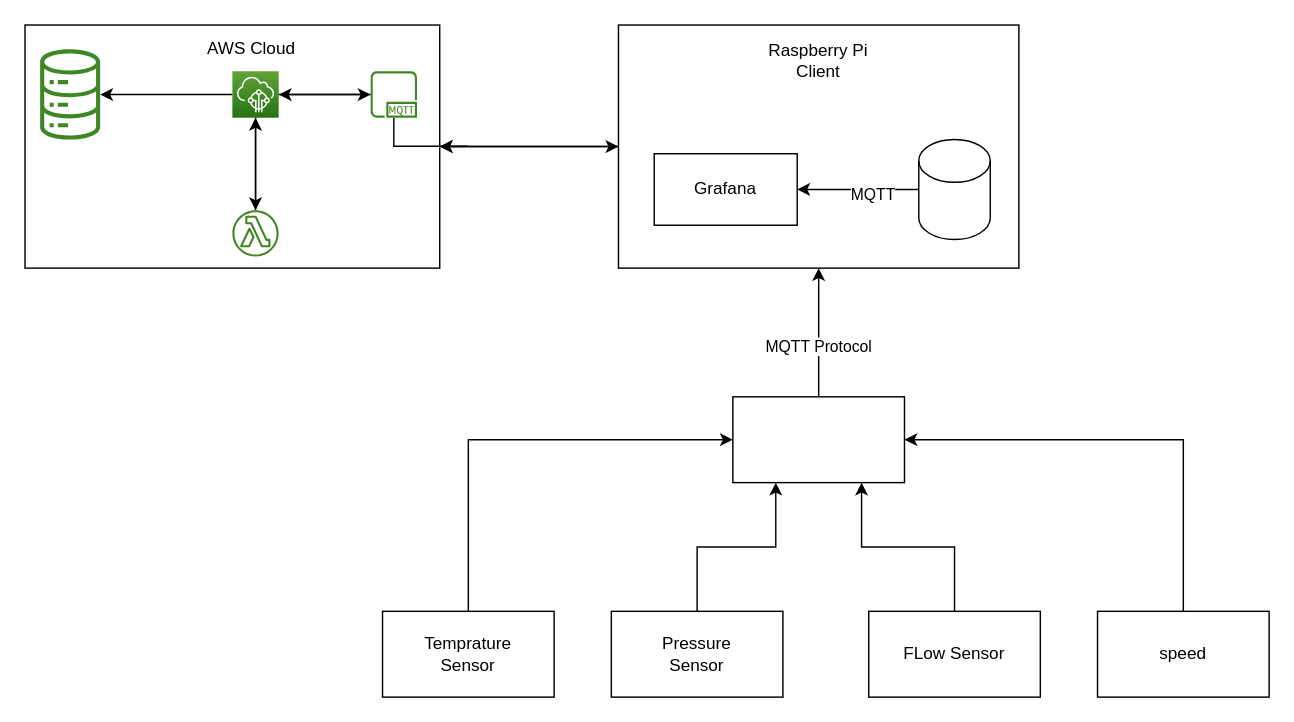
Image size: 1294x722. Some labels were removed from this diagram. Here are the shapes that lost their labels. From the top down, the centre of each, then its label:
(953,189): InfluxDB
(817,439): Raspberry PI Server
